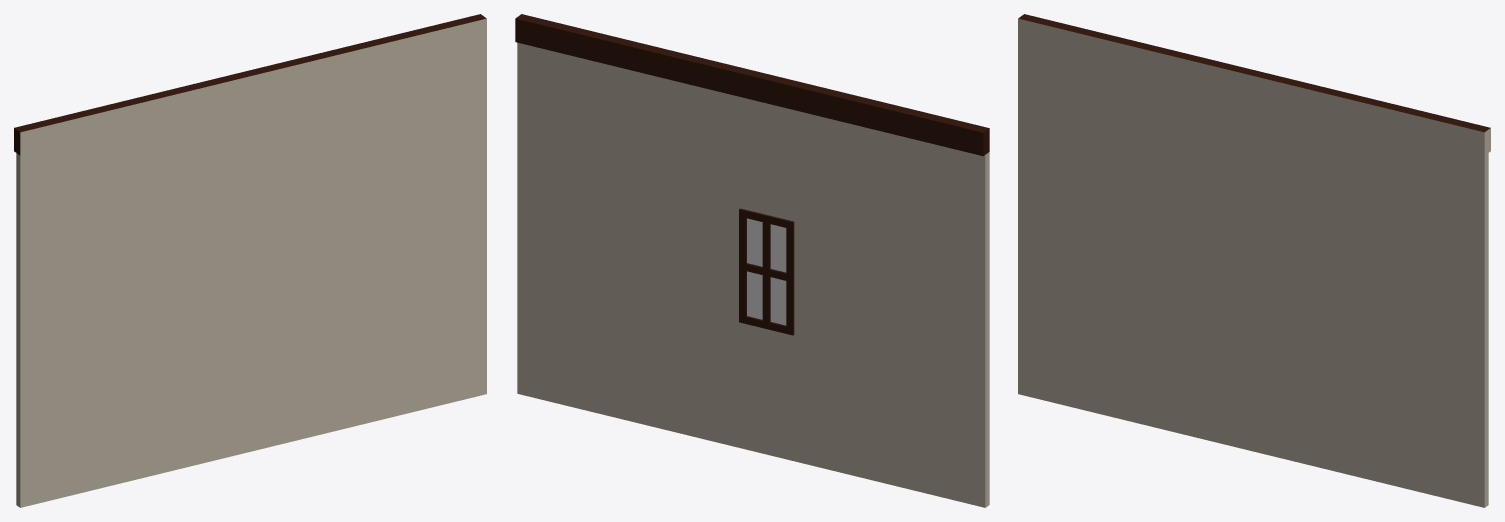
File: RightWall.fbx
3 renders of one model, left to right at view 1: azimuth 30°, elevation 25°; view 2: azimuth 150°, elevation 25°; view 3: azimuth 330°, elevation 25°, orthographic.
Visible parts, largest first — view 1: RightWall; view 2: RightWall; view 3: RightWall.
Boxes of the visible parts, bbox=[...] form: RightWall: bbox=[14, 14, 486, 507]; RightWall: bbox=[515, 14, 989, 507]; RightWall: bbox=[1018, 14, 1490, 507].
Bounding box in the file's own units: 6500 × 5000 × 180.
